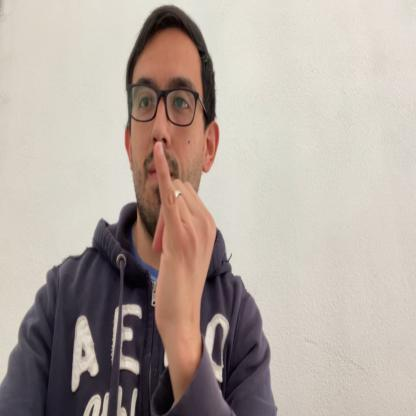I: (152, 141, 217, 338)
